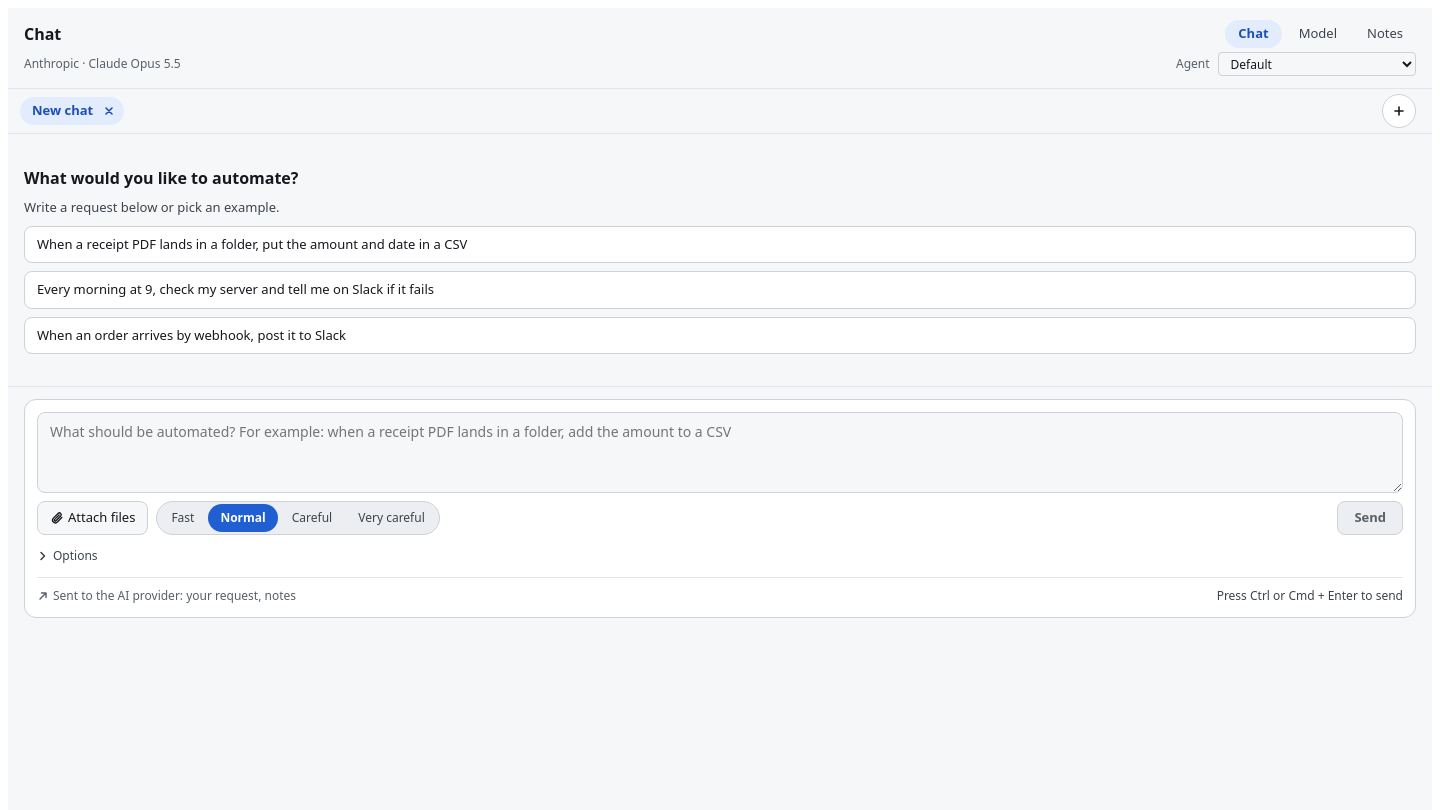
Test case: the error of a refused plan or deploy › shows the plain words in the chat when a plan stays invalid after the repair rounds
The width and height of the screenshot is (1440, 810).
Expected: the button "Anthropic · Claude Opus 5.5" is shown, [24,55,1164,73]
Replace the text in the text box named "Your request" with "pause then post" at (720, 452), box [37,412,1403,493]
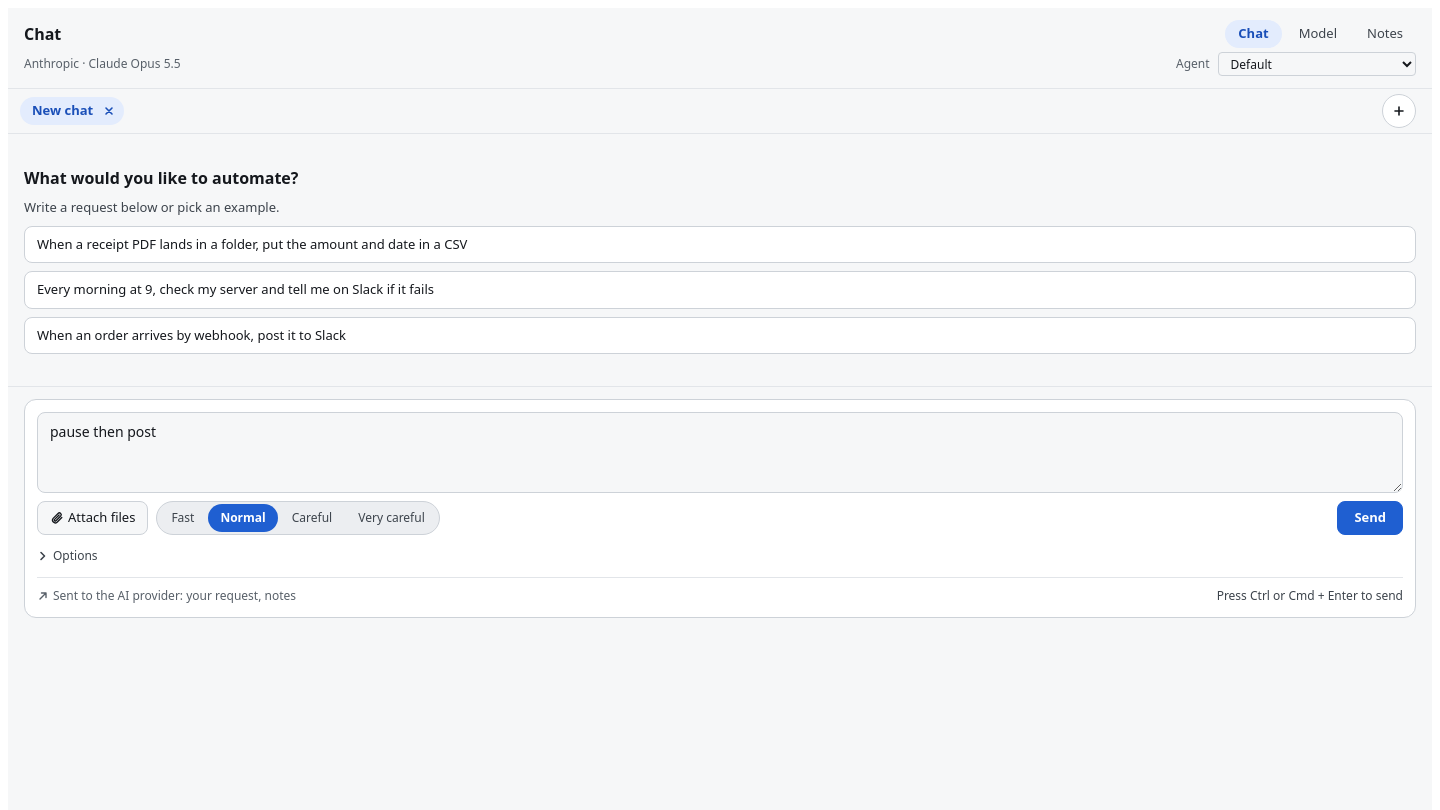
Click the button "Send".
click(1370, 518)  # box [1337,501,1403,535]
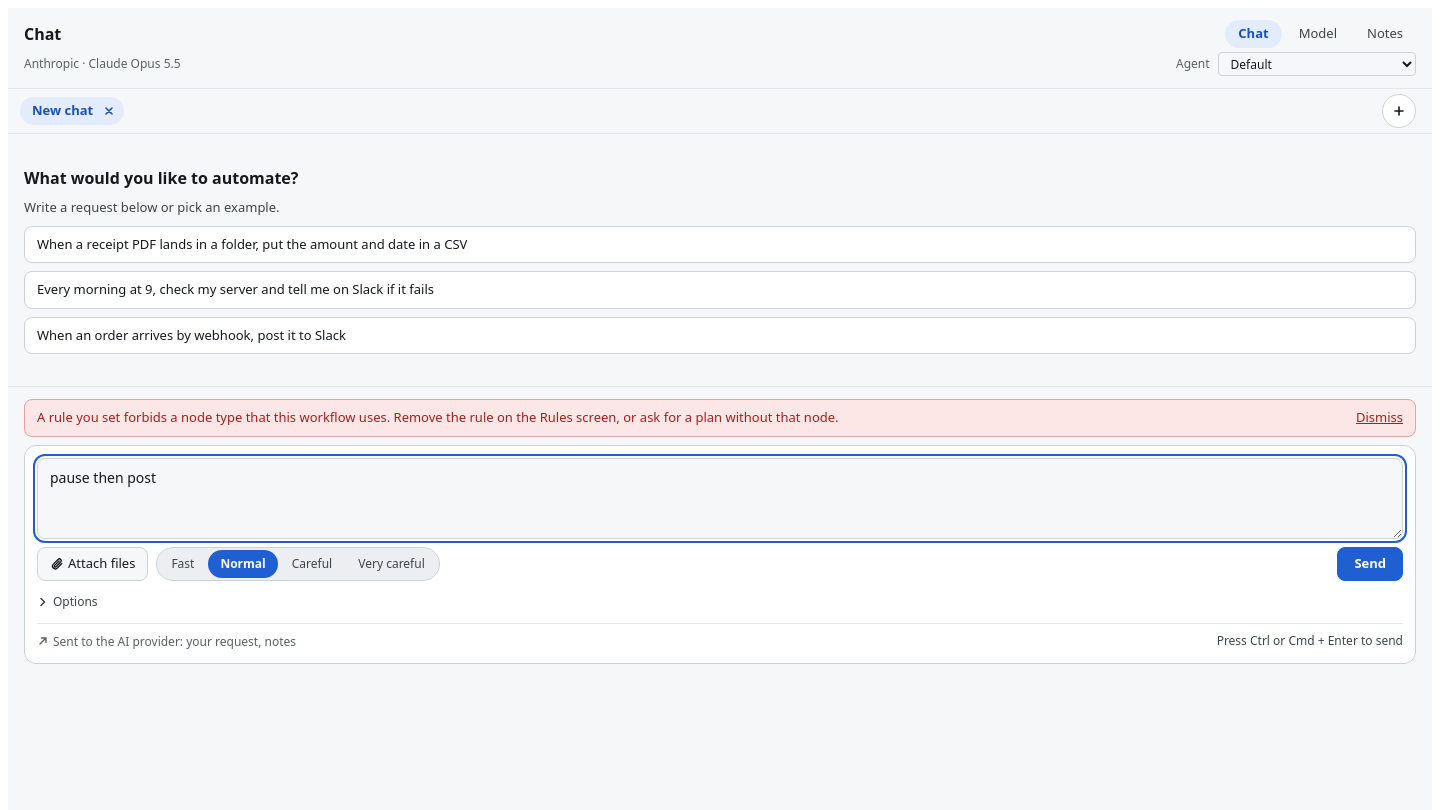
Now the text "A rule you set forbids a node type that this workflow uses. Remove the rule on the Rules screen, or ask for a plan witho" is shown, box [37,408,839,426]
